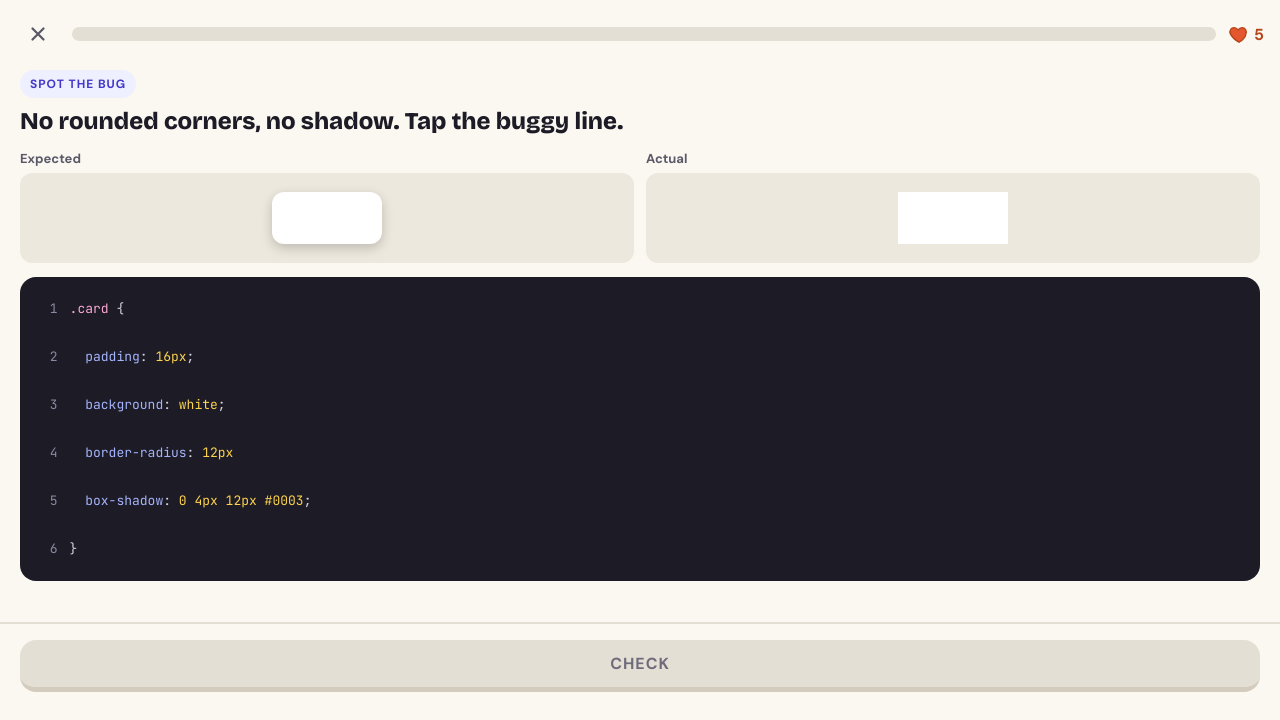
Spot the bug › shows expected vs actual, picks a line, and reveals the right line when wrong
Check: the text "Expected" is shown, box [20,150,81,167]
Check: the text "Actual" is shown, box [646,150,688,167]
Click the button with aria-label "Line 2: padding: 16px;": (105, 357) [30,335,1250,379]
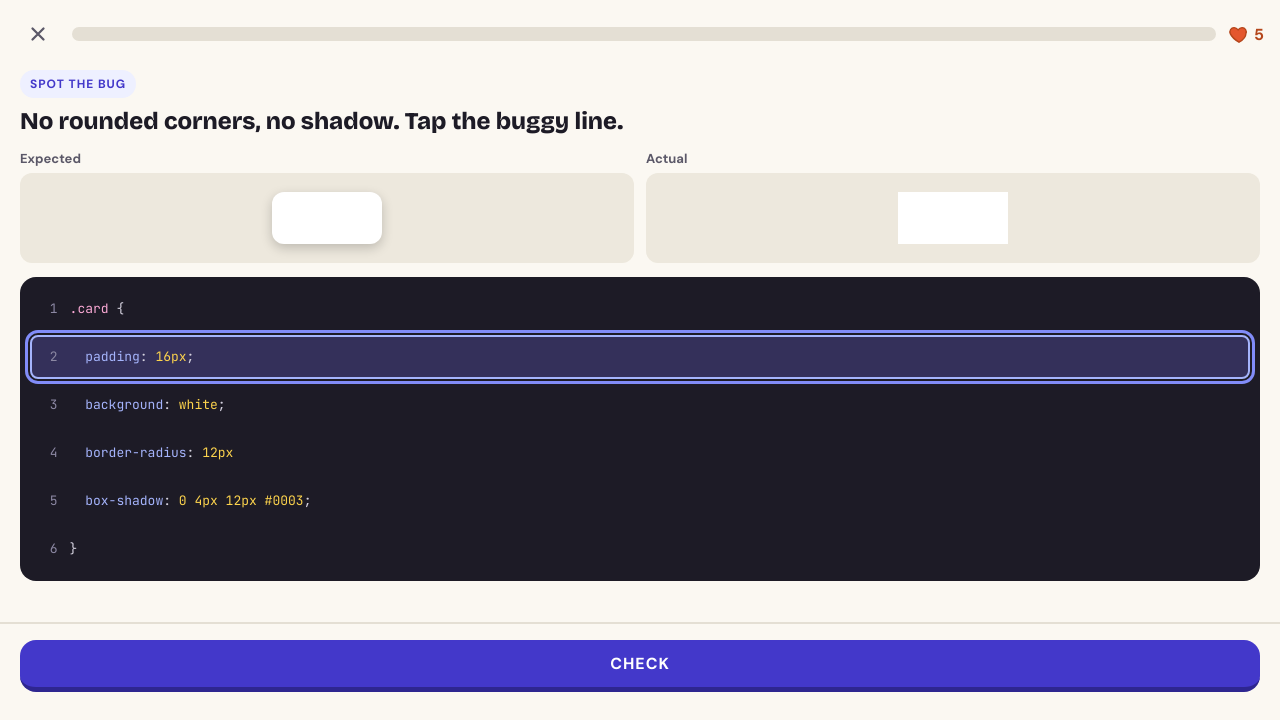
Check: the button with aria-label "Line 2: padding: 16px;" is pressed, box [30,335,1250,379]
Click the button "Check": (640, 666) [20,640,1260,692]
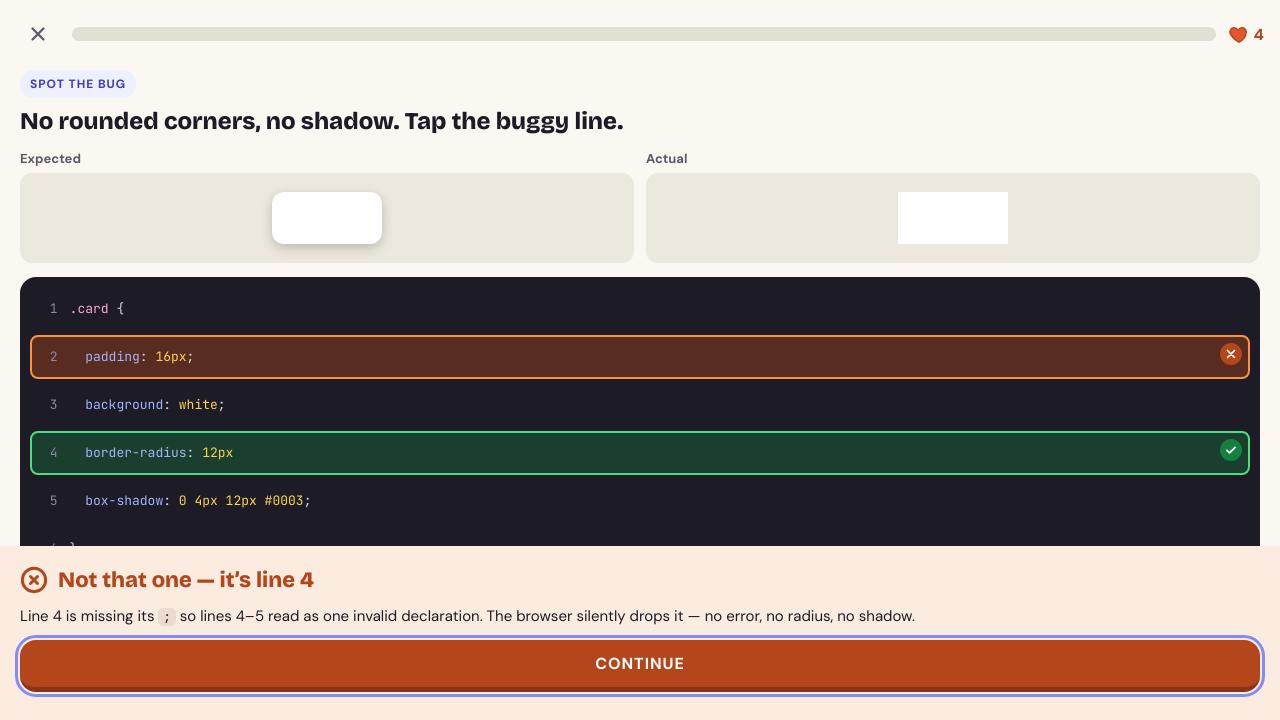
Check: the element named "Feedback" shows "Not that one — it’s line 4", box [58,567,314,593]
Check: the button with aria-label "Line 4: border-radius: 12px, correct answer" is shown, box [30,431,1250,475]
Check: the button with aria-label "Line 2: padding: 16px;, your answer, incorrect" is shown, box [30,335,1250,379]
